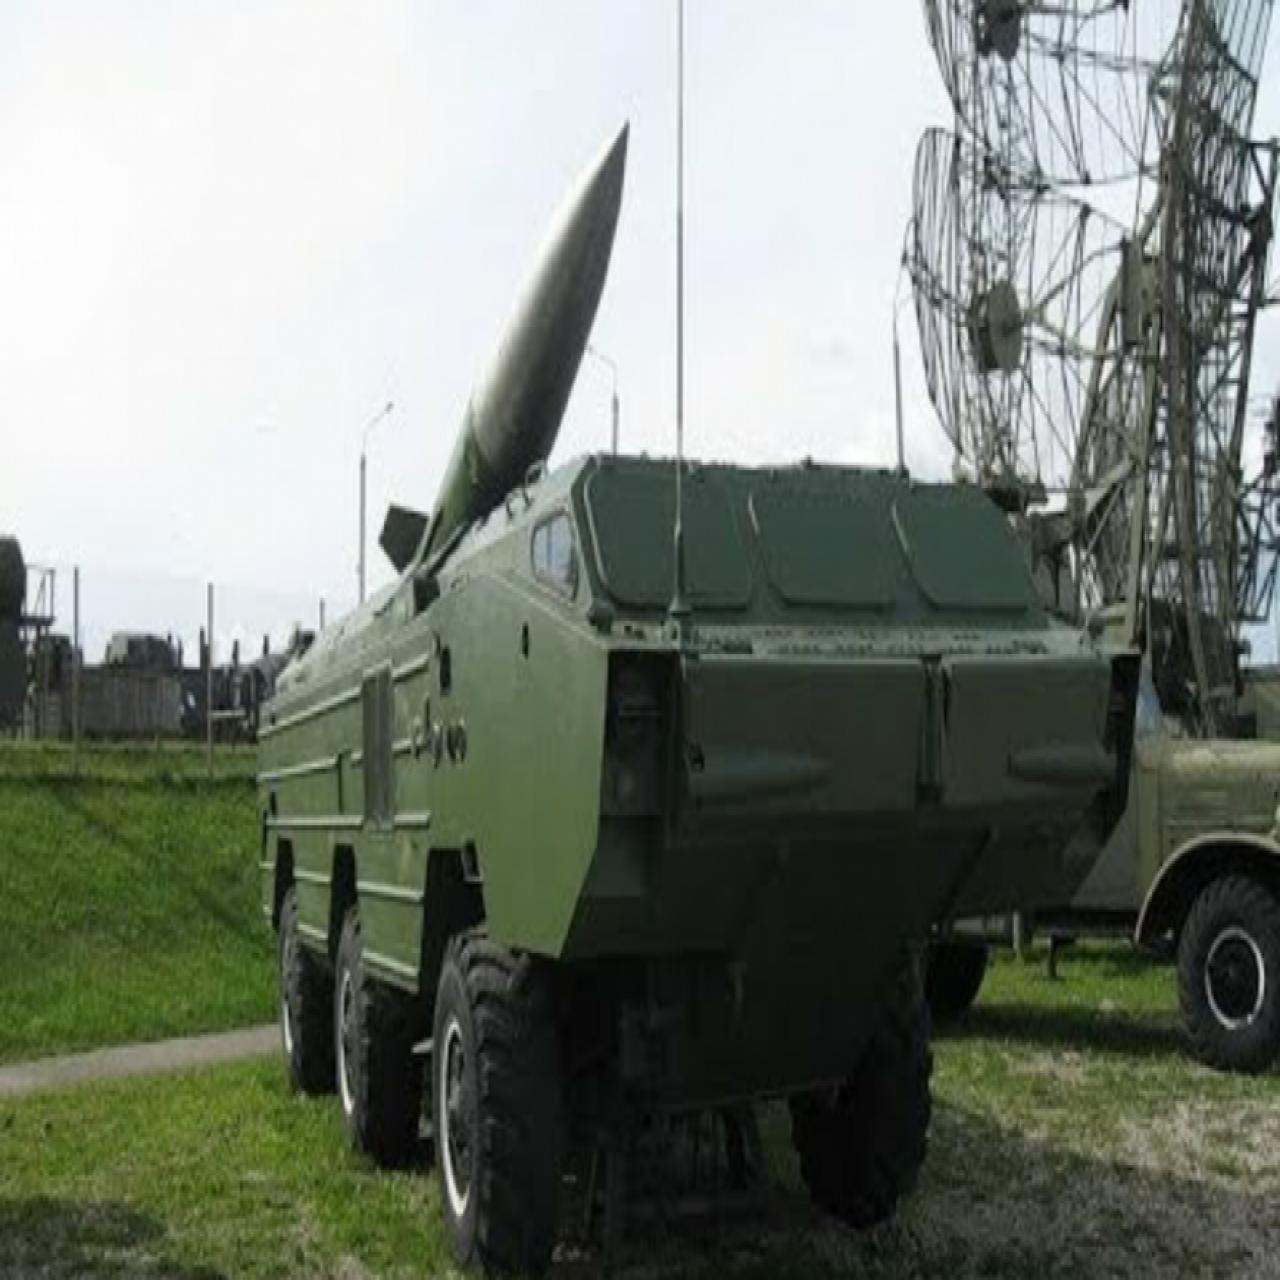MIL_Veh: (258, 113, 1136, 1280)
